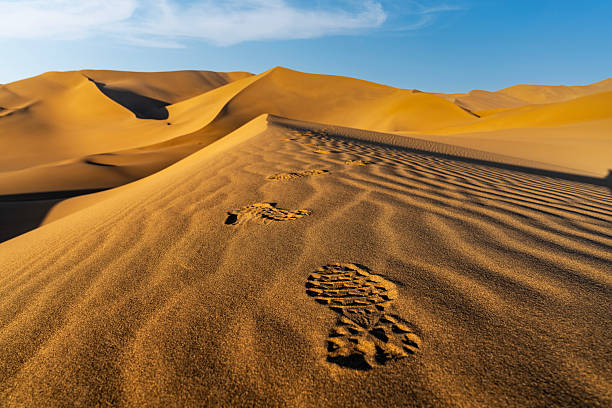human_footprint: (306, 263, 420, 369), (225, 203, 310, 224), (267, 169, 328, 180), (345, 159, 374, 166)
